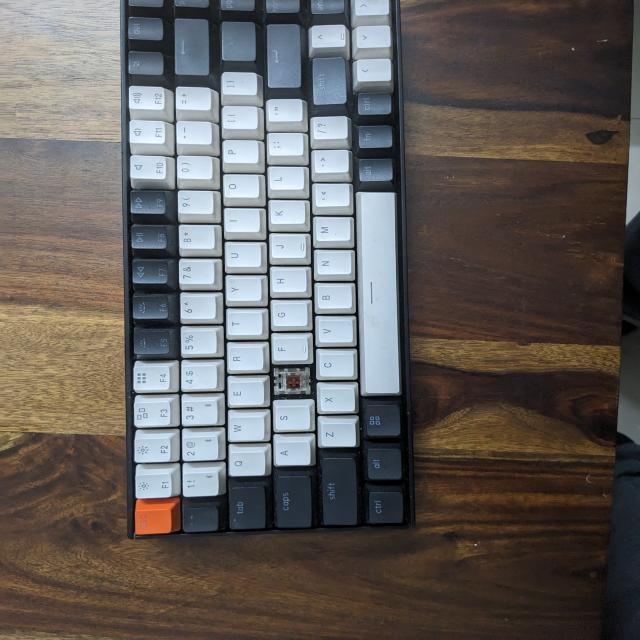key-switch: (271, 366, 315, 398)
